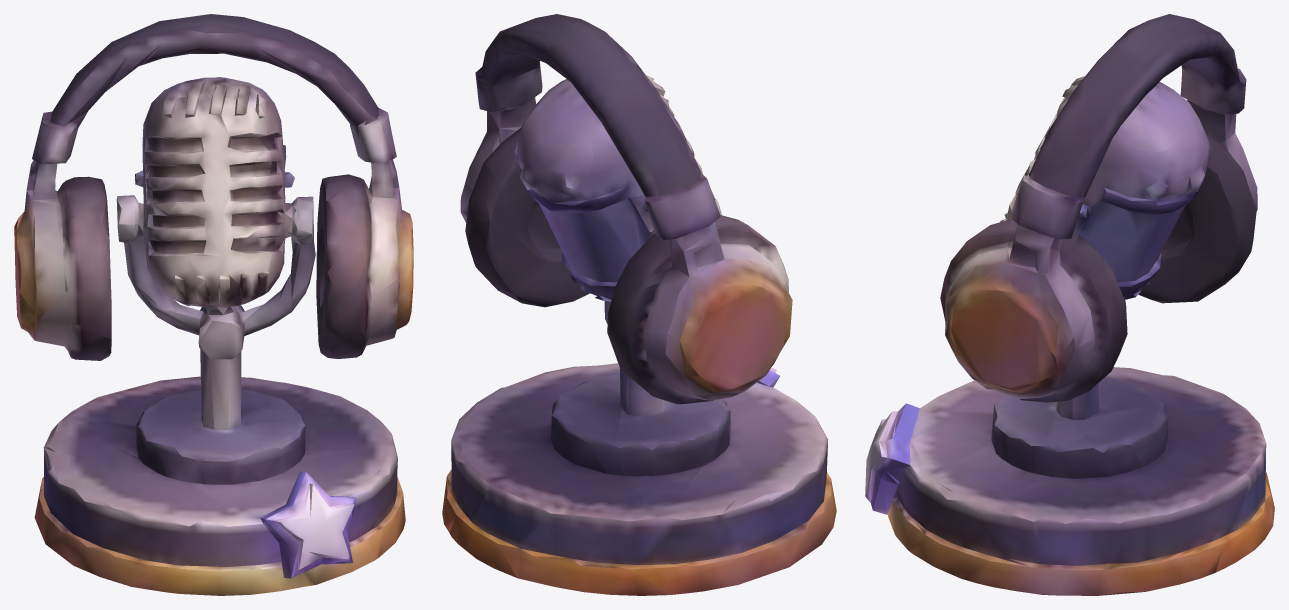
Rendered from deco04.glb.
The picture shows the model from 3 angles, left to right: view 1: azimuth 30°, elevation 25°; view 2: azimuth 150°, elevation 25°; view 3: azimuth 270°, elevation 25°; orthographic projection. The views are drawn at different scales.
Size of the model in its own units: 0.1951 by 0.256 by 0.1926.
Materials: 1 (1 with a texture image).
